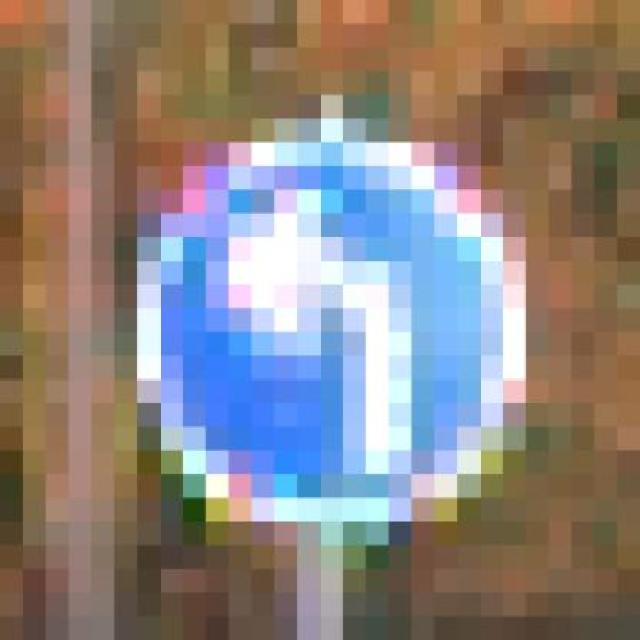Turn left ahead: (46, 94, 572, 546)
